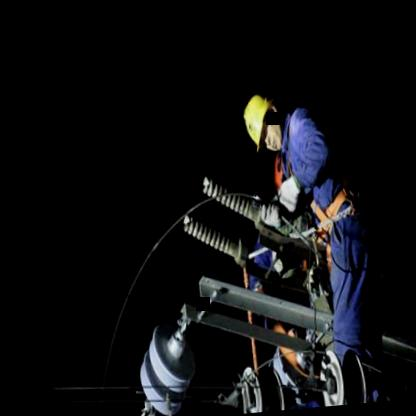helmet: (240, 90, 288, 160)
